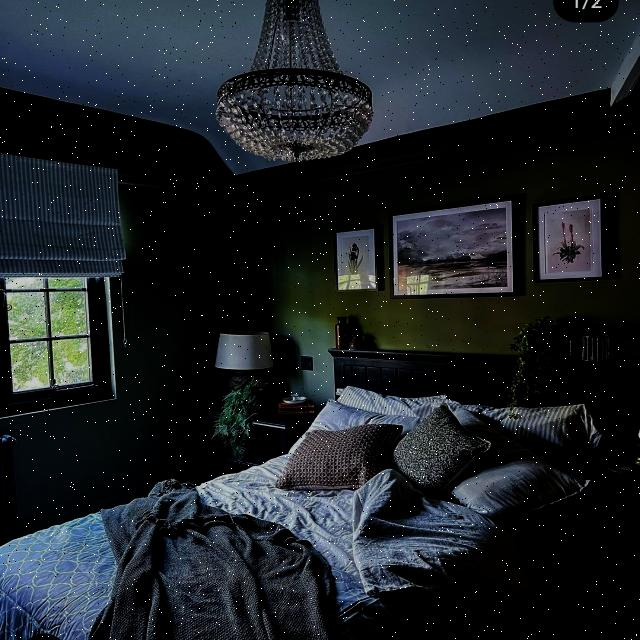bed: (0, 382, 597, 640)
